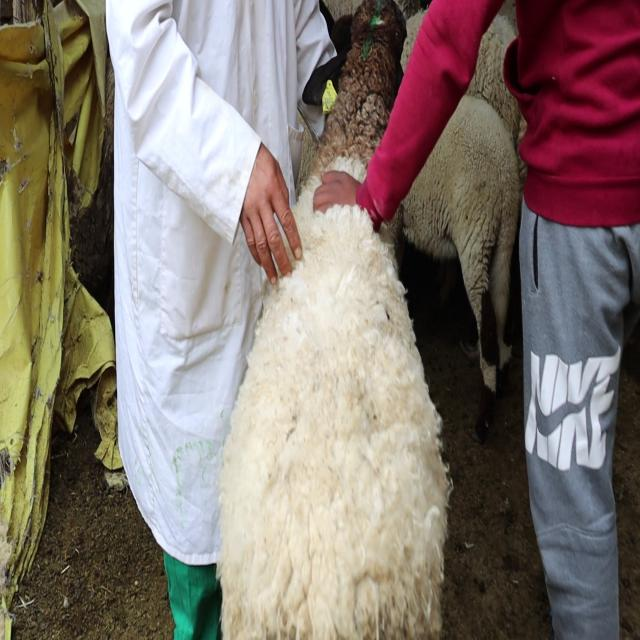Score_2: (217, 0, 449, 639)
